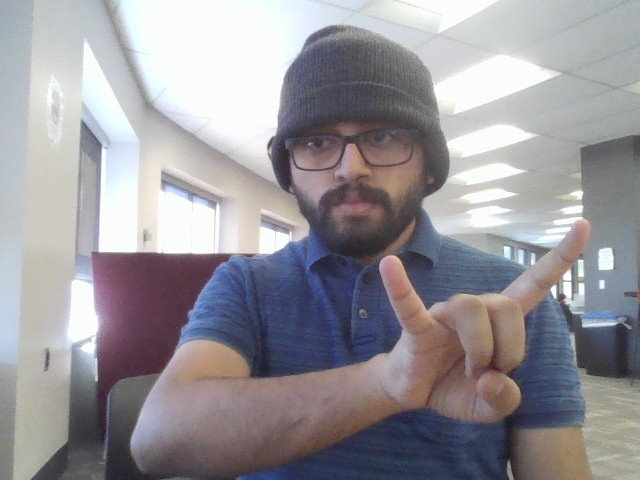help: (345, 211, 602, 441)
